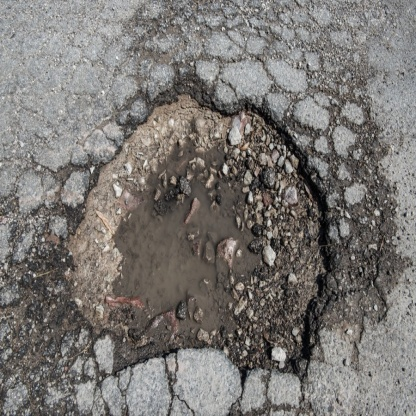pothole: (56, 78, 344, 385)
